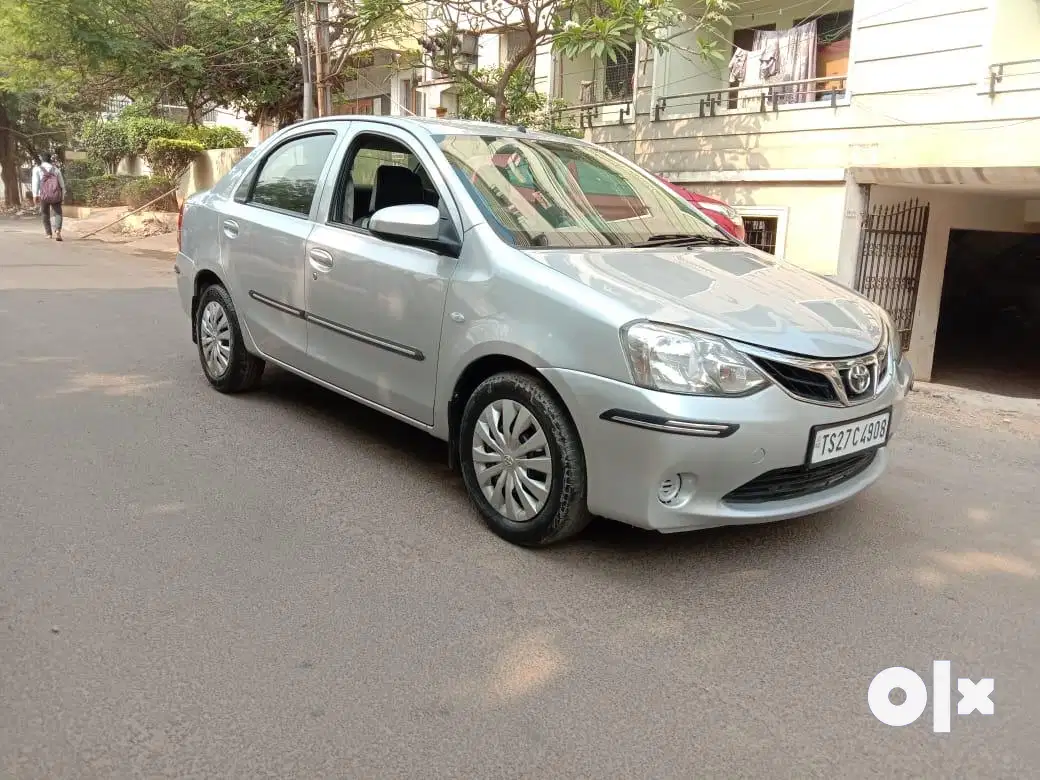car: (166, 118, 938, 569)
numberplate: (805, 401, 891, 477)
